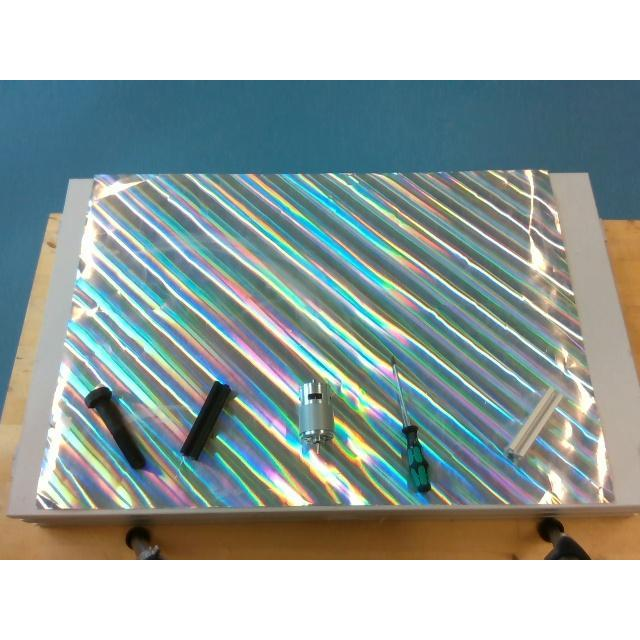F20_20_B: (180, 381, 232, 459)
F20_20_G: (502, 387, 562, 461)
M20_100: (86, 386, 146, 469)
Motor2: (298, 378, 334, 454)
Screwdriver: (390, 355, 430, 493)
